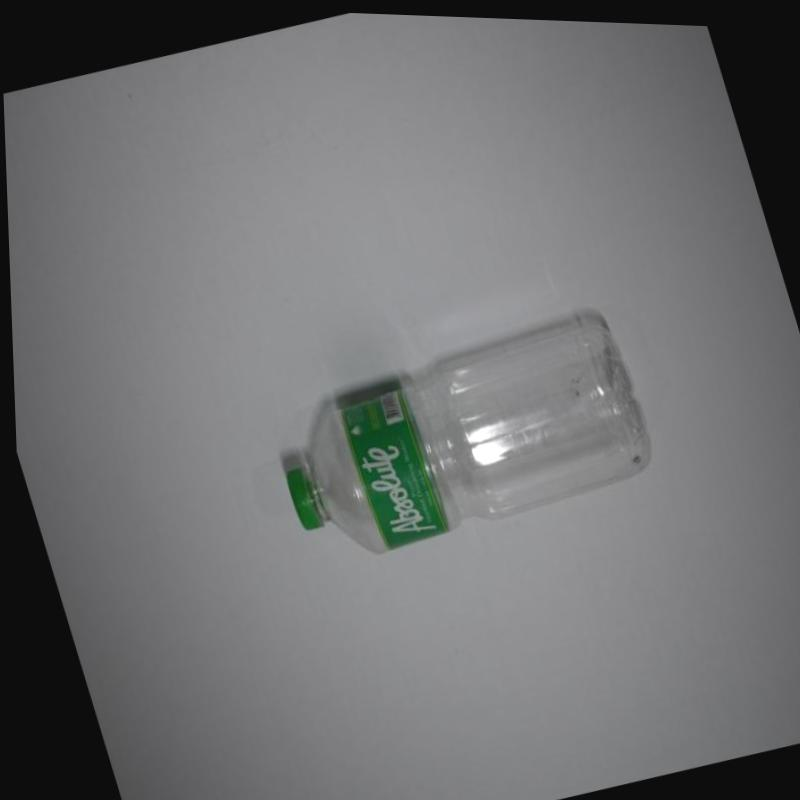botella: (253, 289, 665, 578)
